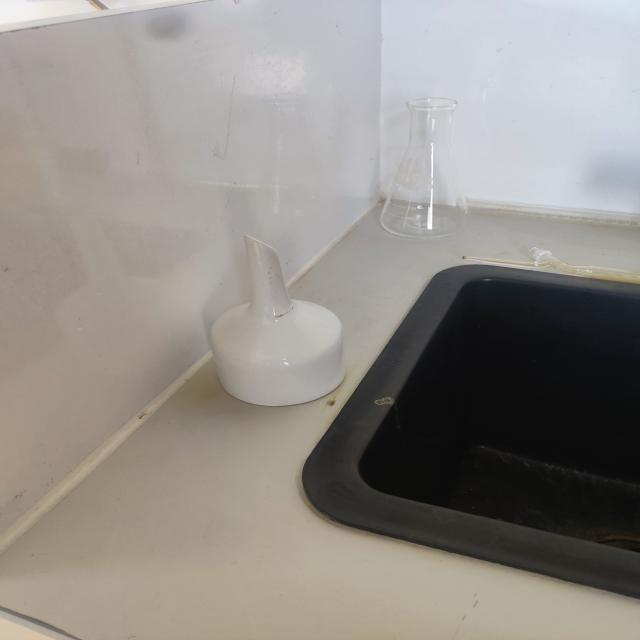Buchner_Funnel: (171, 217, 384, 438)
